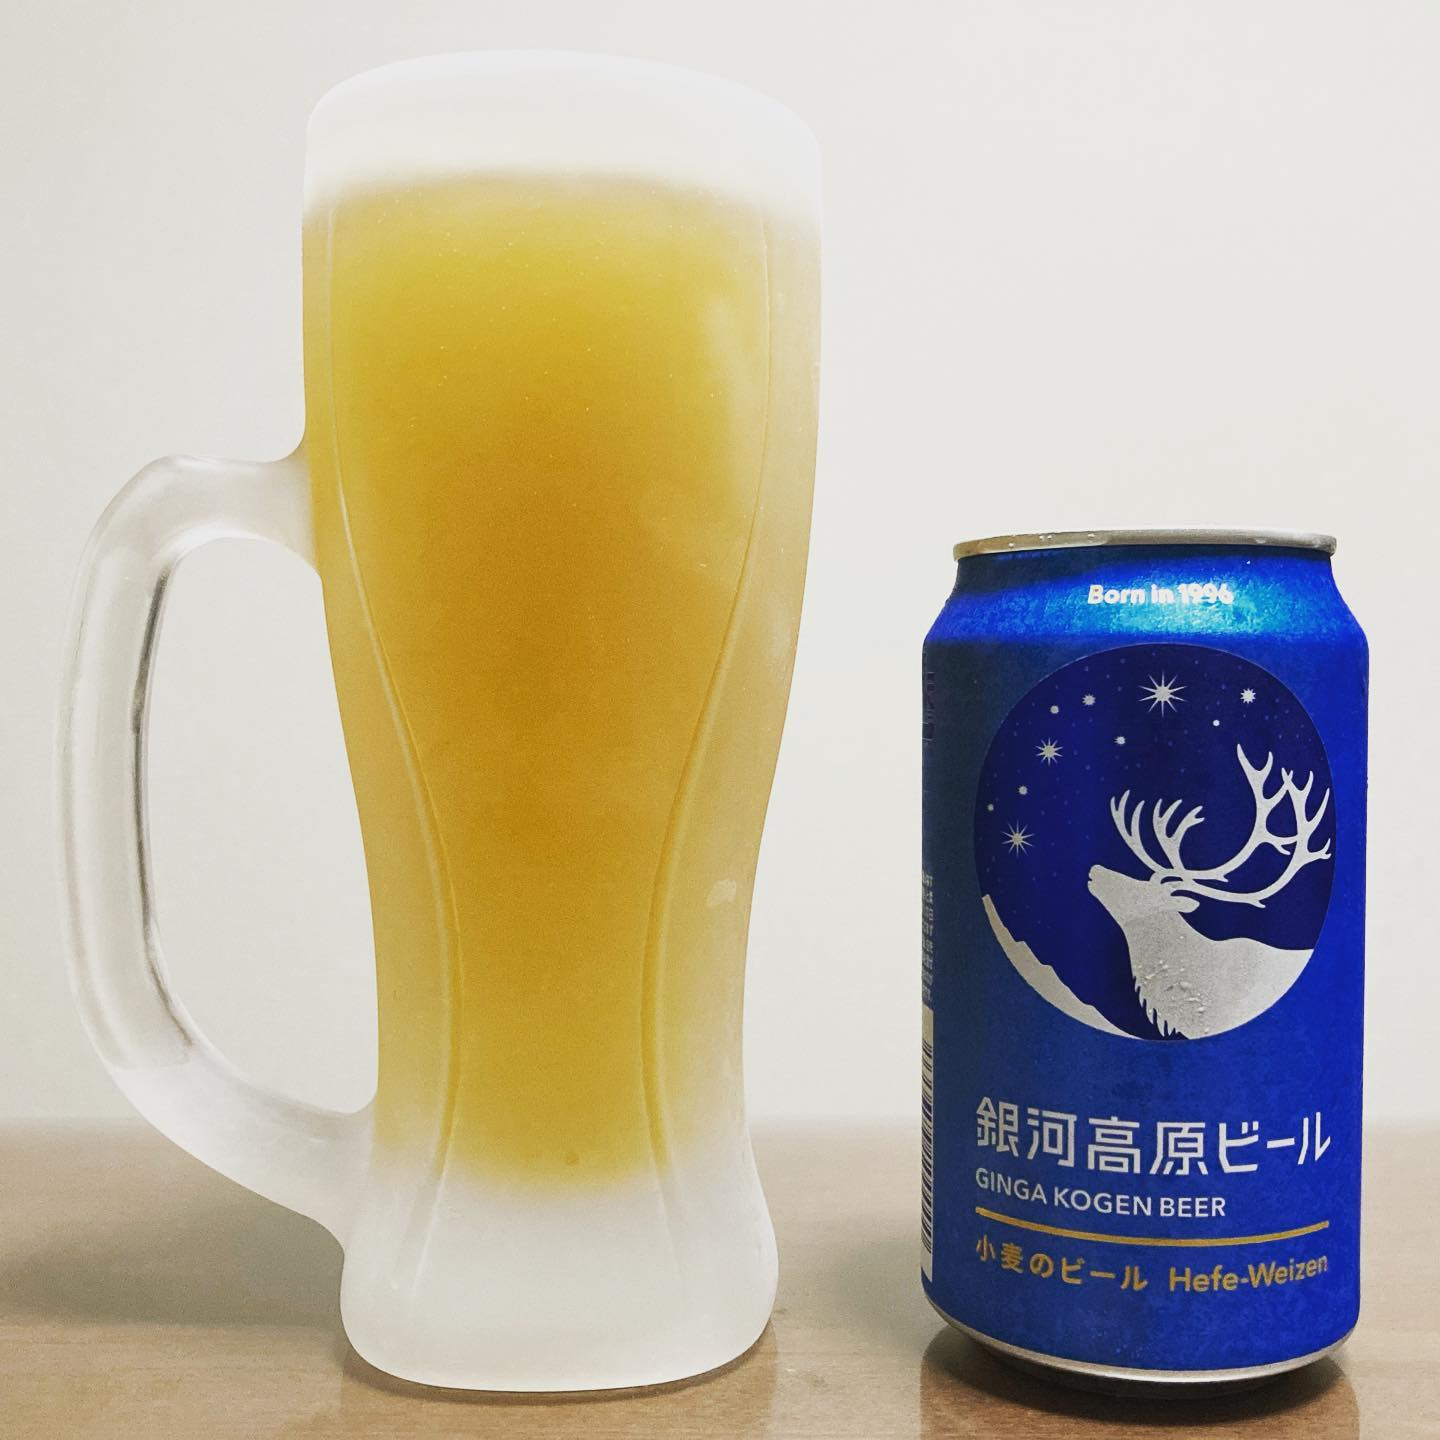alcohol: (290, 36, 832, 1411), (913, 517, 1378, 1408)
